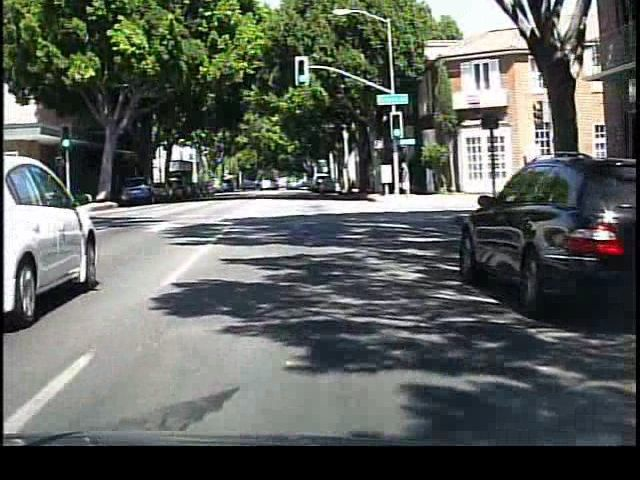person: (398, 157, 417, 201)
